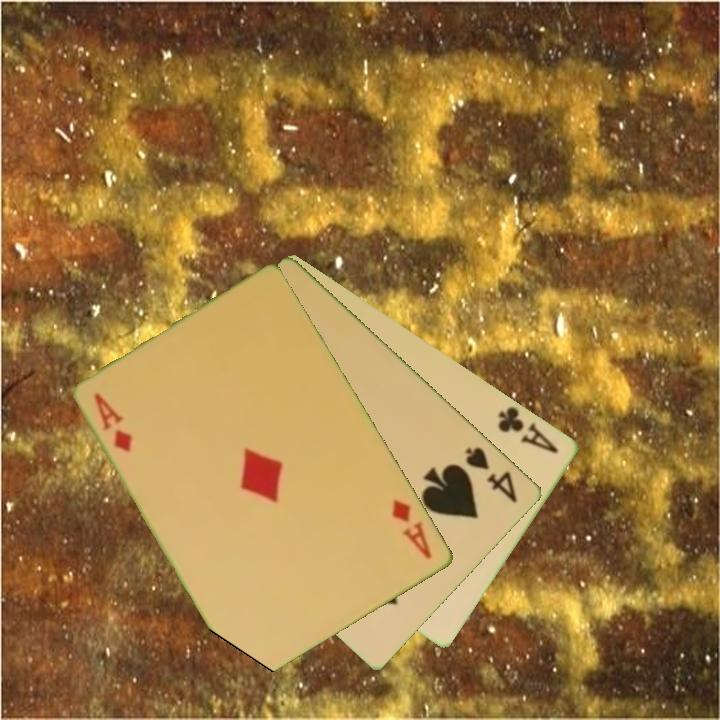4s: (462, 443, 521, 506)
Ac: (494, 403, 562, 457)
Ad: (388, 496, 435, 563), (91, 389, 136, 456)
